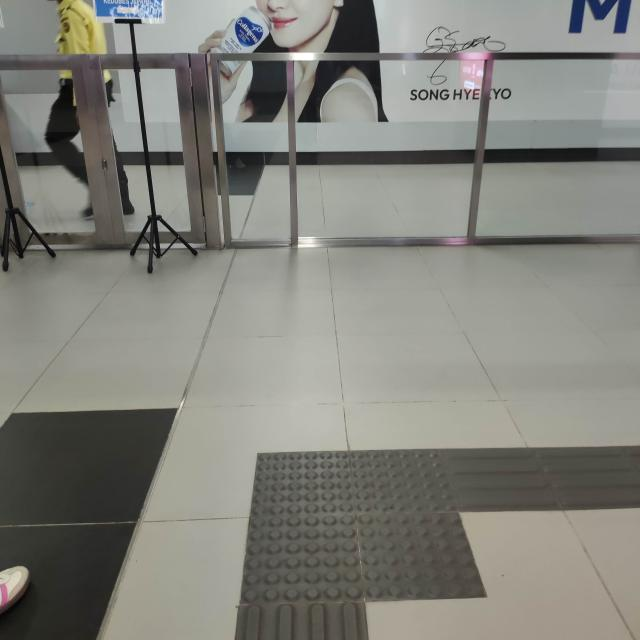kanan: (217, 422, 640, 639)
